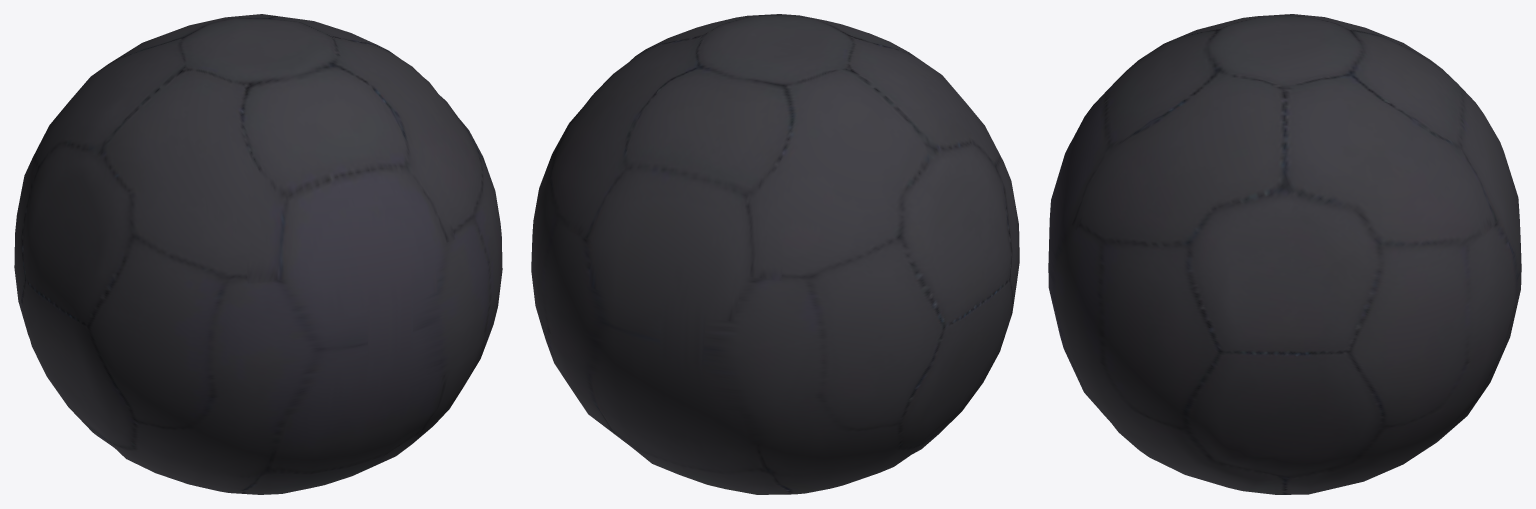
File: 01-6493379-Sleek-Black-Soccer-Ball-model-pack.glb
3 renders of one model, left to right at view 1: azimuth 30°, elevation 25°; view 2: azimuth 150°, elevation 25°; view 3: azimuth 270°, elevation 25°, orthographic.
Visible parts, largest first — view 1: Retopo_neural_node_d60a4654-5944-44ed-ae8b-407a0c6df003; view 2: Retopo_neural_node_d60a4654-5944-44ed-ae8b-407a0c6df003; view 3: Retopo_neural_node_d60a4654-5944-44ed-ae8b-407a0c6df003.
Boxes of the visible parts, <box> form: Retopo_neural_node_d60a4654-5944-44ed-ae8b-407a0c6df003: <box>14,14,502,494</box>; Retopo_neural_node_d60a4654-5944-44ed-ae8b-407a0c6df003: <box>531,14,1019,494</box>; Retopo_neural_node_d60a4654-5944-44ed-ae8b-407a0c6df003: <box>1048,14,1521,494</box>.
Bounding box in the file's own units: 0.9482 × 0.9332 × 0.9482.
Materials: 1 (1 with a texture image).
